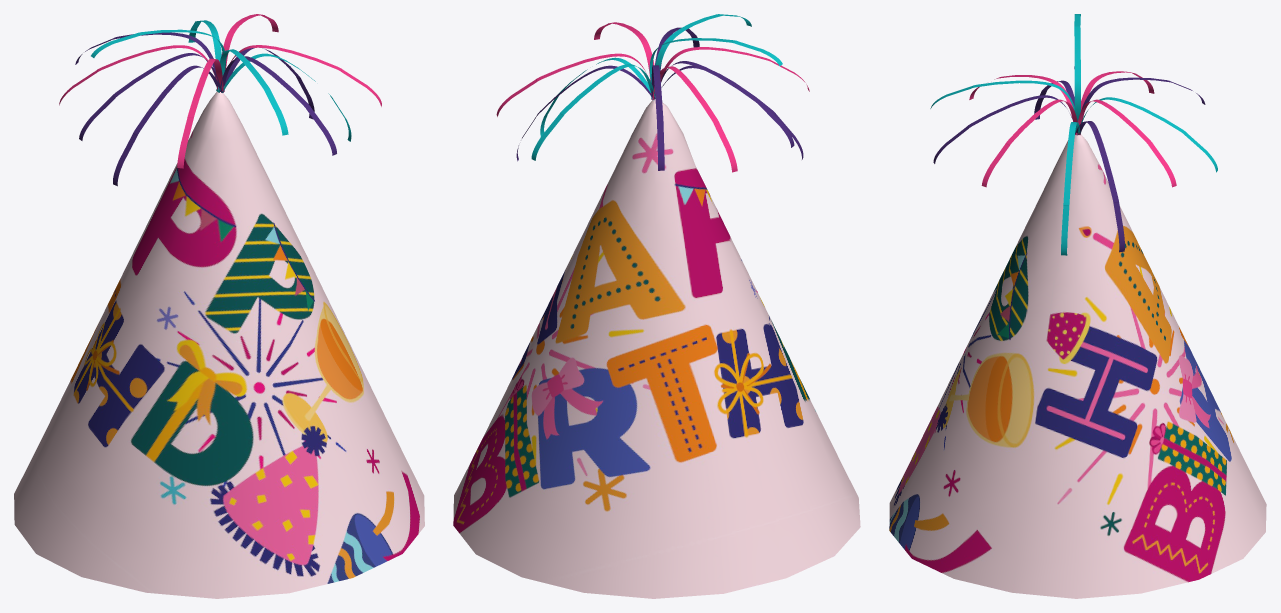
Rendered from Birthday hat.fbx.
The picture shows the model from 3 angles, left to right: view 1: azimuth 30°, elevation 25°; view 2: azimuth 150°, elevation 25°; view 3: azimuth 270°, elevation 25°; orthographic projection. The views are drawn at different scales.
Parts seen in each view (by area): view 1: Hate; view 2: Hate; view 3: Hate.
Boxes of the visible parts, <box> form: Hate: <box>14,14,424,598</box>; Hate: <box>453,14,860,598</box>; Hate: <box>889,14,1266,598</box>.
Bounding box in the file's own units: 12.84 × 16.68 × 12.53.
1 material, 1 textured.
